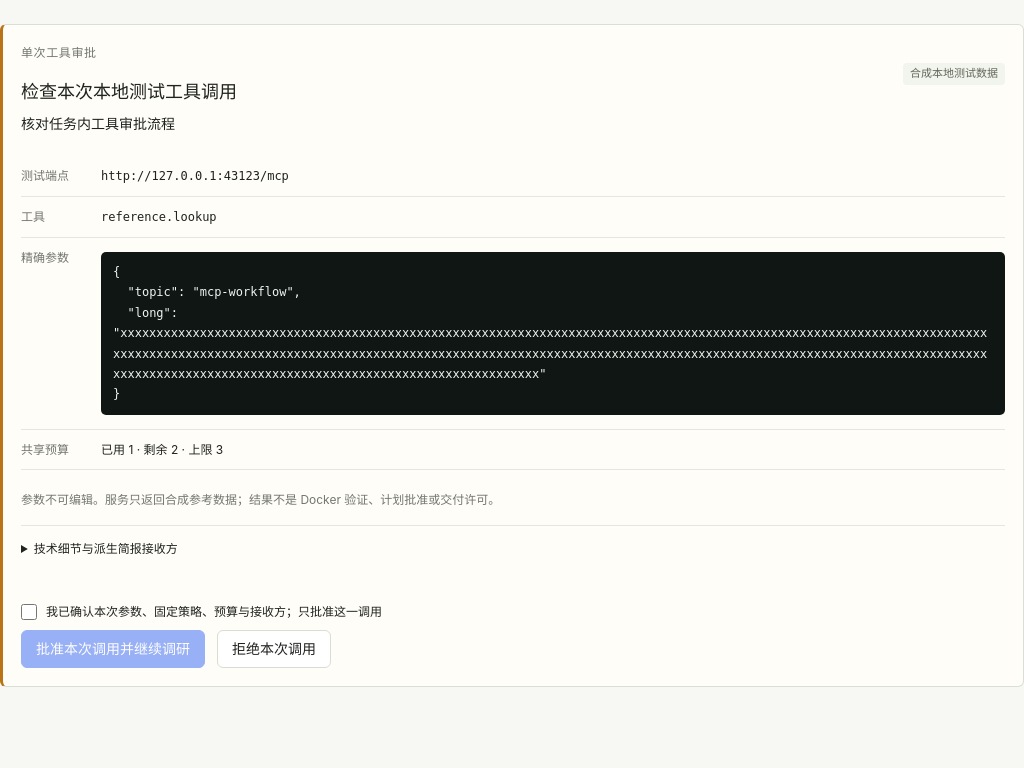
Test: reconciles a lost decision response with the same request identity instead of posting again
Expected: the text "核对任务内工具审批流程" is shown, [21,115,175,132]
Step 1. Click the checkbox labelled "我已确认本次参数、固定策略、预算与接收方；只批准这一调用" → click(29, 612), box [21,604,37,620]
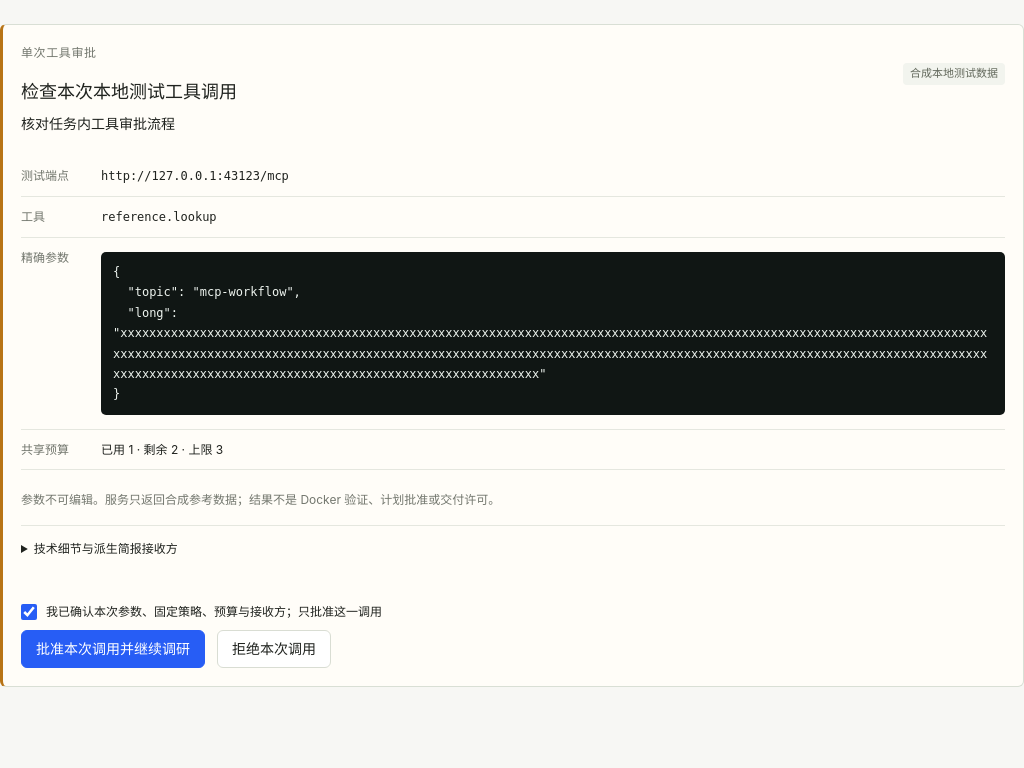
Step 2. Click the button "批准本次调用并继续调研" → click(113, 649), box [21,630,205,668]
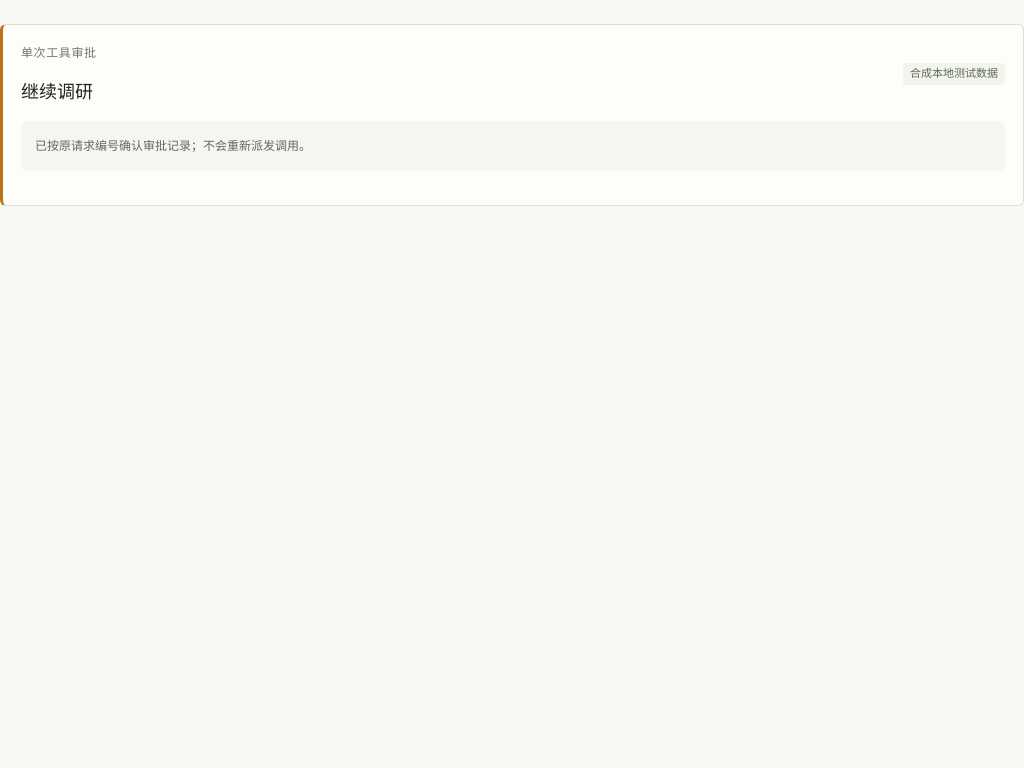
Expected: the text "已按原请求编号确认审批记录；不会重新派发调用。" is shown, [21,121,1005,171]
